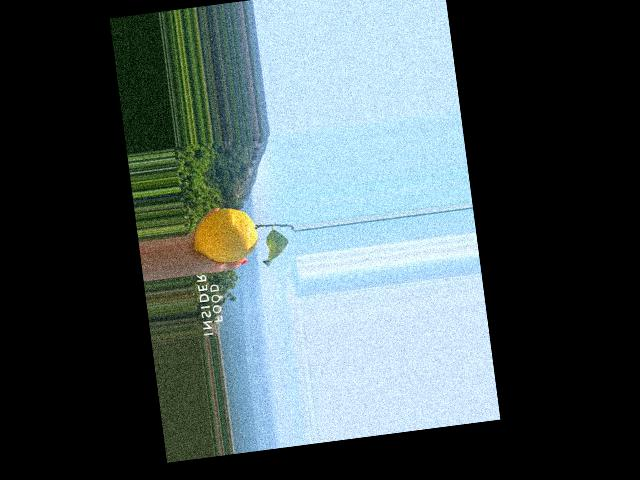lemon: (188, 194, 263, 274)
